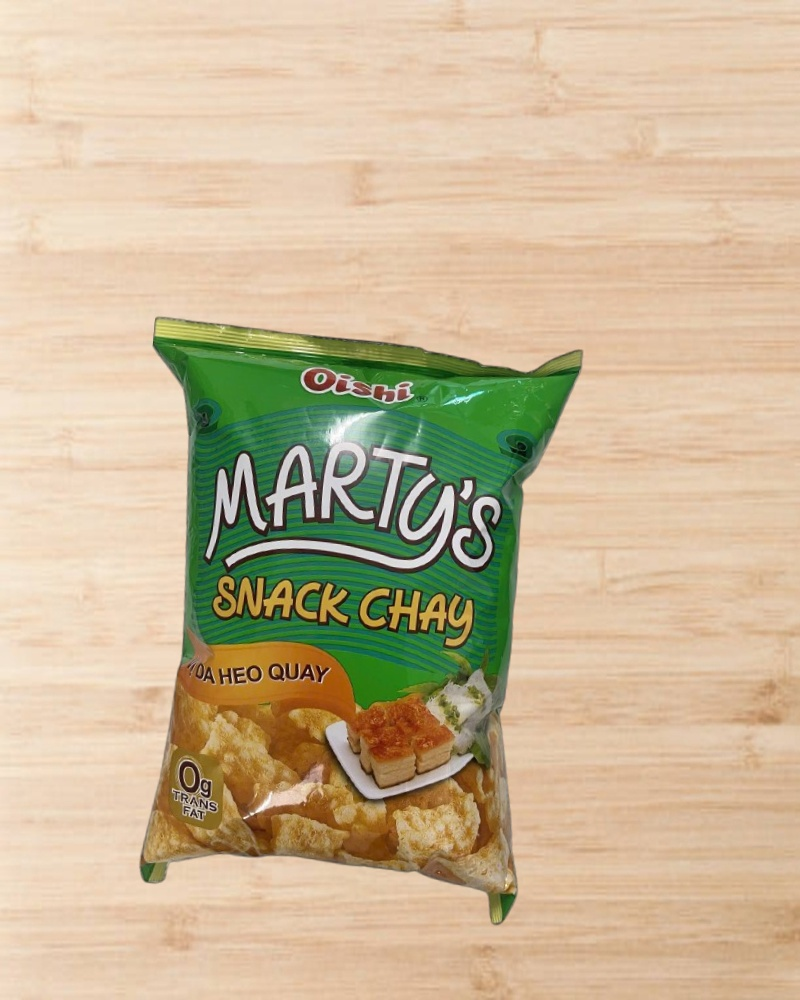Snack chay: (106, 313, 584, 929)
